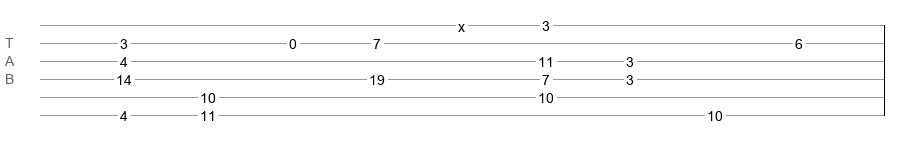0: (289, 36, 297, 46)
10: (200, 90, 216, 100), (538, 90, 554, 100), (707, 108, 723, 118)
11: (200, 108, 216, 118), (538, 54, 554, 64)
14: (116, 72, 132, 82)
19: (369, 72, 385, 82)
3: (120, 36, 128, 46), (542, 18, 550, 28), (626, 54, 634, 64), (626, 72, 634, 82)
4: (120, 108, 128, 118), (120, 54, 128, 64)
6: (795, 36, 803, 46)
7: (373, 36, 381, 46), (542, 72, 550, 82)
x: (458, 19, 465, 27)
